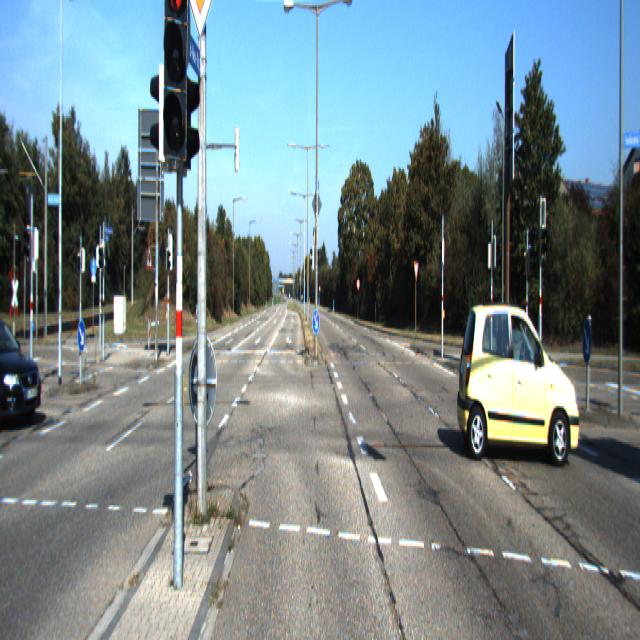Car: (456, 300, 582, 468), (0, 309, 46, 431)
